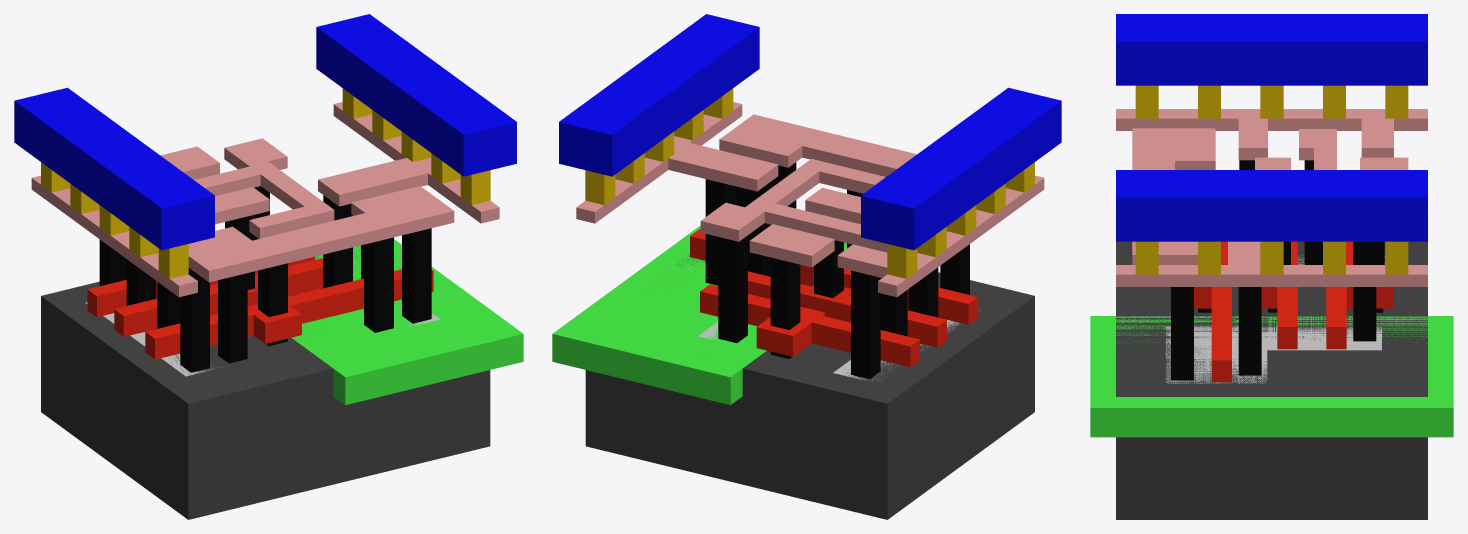
Rendered from sky130_fd_sc_hd__lpflow_inputiso1p_1.obj.
The picture shows the model from 3 angles, left to right: view 1: azimuth 30°, elevation 25°; view 2: azimuth 150°, elevation 25°; view 3: azimuth 270°, elevation 25°; orthographic projection. The views are drawn at different scales.
Visible parts, largest first — view 1: subs, metal1, li, licon, nwell, poly, mcon; view 2: subs, metal1, li, nwell, licon, poly, mcon; view 3: subs, metal1, nwell, li, mcon, licon, poly, tap.
Boxes of the visible parts, x1,y1,x2,y2 form: subs: (41,246,490,519); metal1: (14,14,516,250); li: (31,102,499,297); licon: (99,186,431,372); nwell: (291,239,523,405); poly: (87,256,433,359); mcon: (41,88,490,278); subs: (585,255,1034,519); metal1: (559,14,1061,250); li: (576,102,1044,297); nwell: (552,225,846,405); licon: (705,162,969,379); poly: (690,229,978,367); mcon: (585,88,1034,278); subs: (1116,241,1427,519); metal1: (1116,14,1427,241); nwell: (1090,316,1453,437); li: (1116,109,1427,286); mcon: (1135,85,1408,274); licon: (1171,160,1384,380); poly: (1194,241,1393,382); tap: (1165,326,1381,383).
Size of the model in its own units: 3.2 by 2.74 by 2.68.
